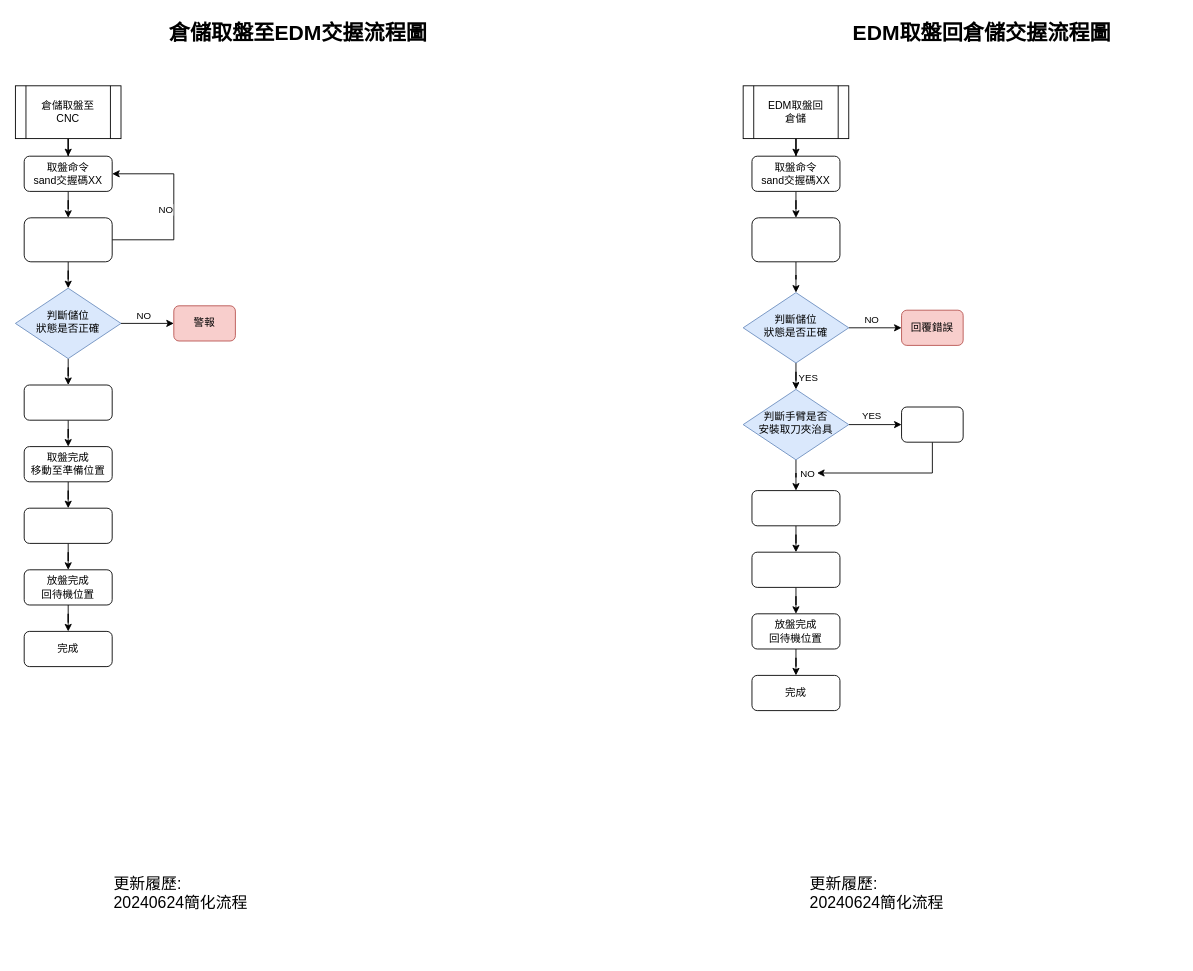
Image size: 1193x971. Some labels were removed from this diagram. The shapes that lost their labels are listed below. From the top down, each one's box as (x1, y1, x2, y2) in pixels, then its label:
(23, 217, 112, 262): 等待IPC提供儲位(Area,Layer) & CNC編號
(751, 217, 840, 262): IPC提供儲位(Area,Layer) & EDM編號
(23, 384, 112, 420): 手臂移動至 儲位取盤
(901, 406, 963, 442): 命令卸除 夾治具
(23, 507, 112, 543): 等待IPC命令
(751, 490, 840, 526): 手臂移動至 EDM取盤
(751, 551, 840, 587): 取盤完成 移動至儲位
